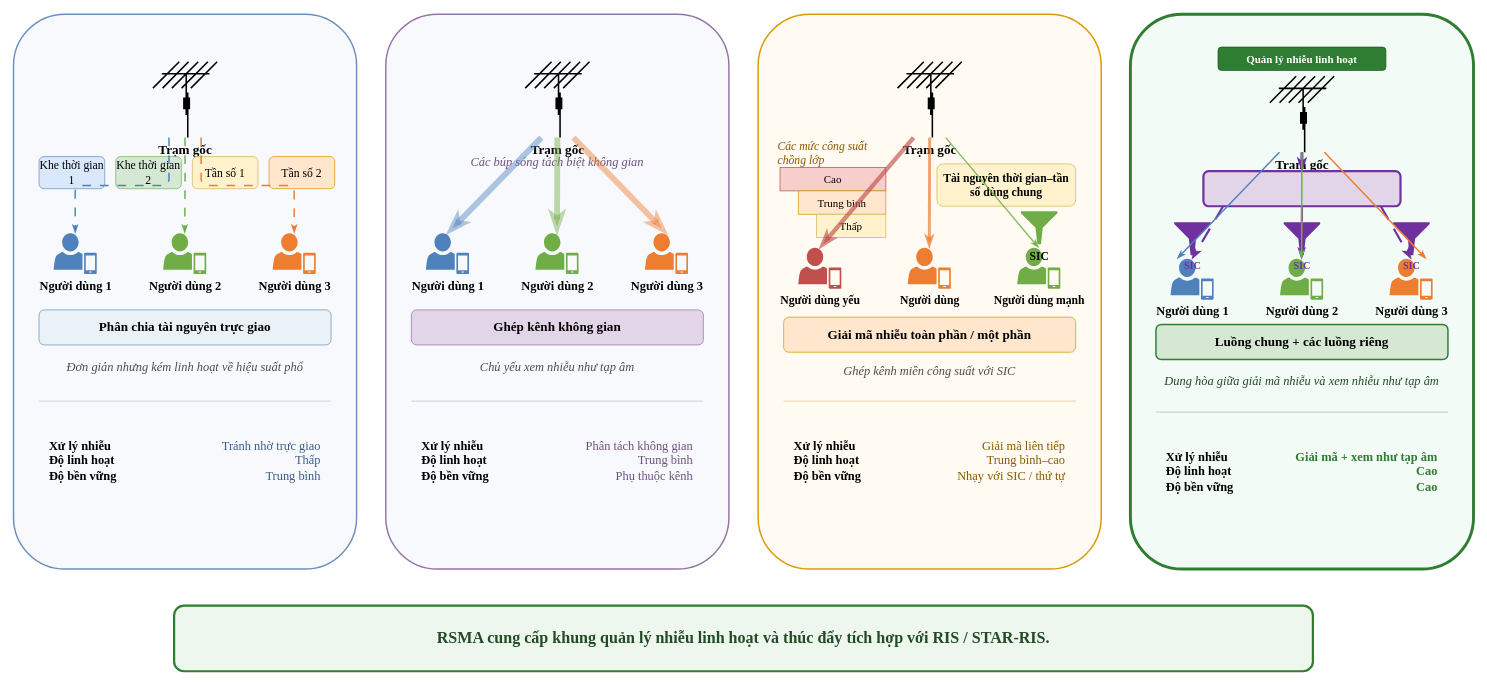
Image size: 1487x685. Some labels were removed from this diagram. The box of each missing label's shape, as (x1, y1, x2, y2) in pixels:
Luồng chung s c: (1202, 170, 1401, 207)
NOMA: (757, 13, 1102, 569)
OMA: (12, 13, 357, 569)
RSMA: (1129, 12, 1475, 570)
SDMA: (385, 13, 729, 569)
